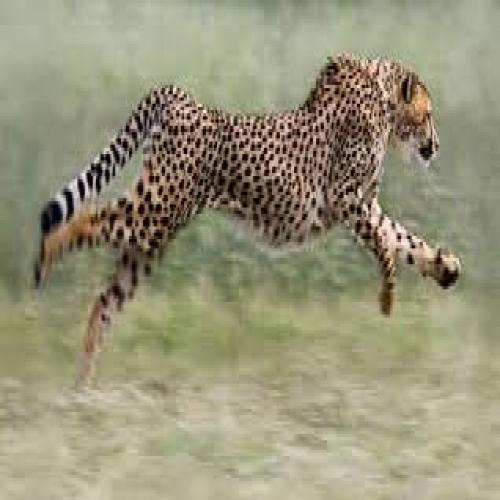cheetah-endangered: (37, 46, 464, 397)
